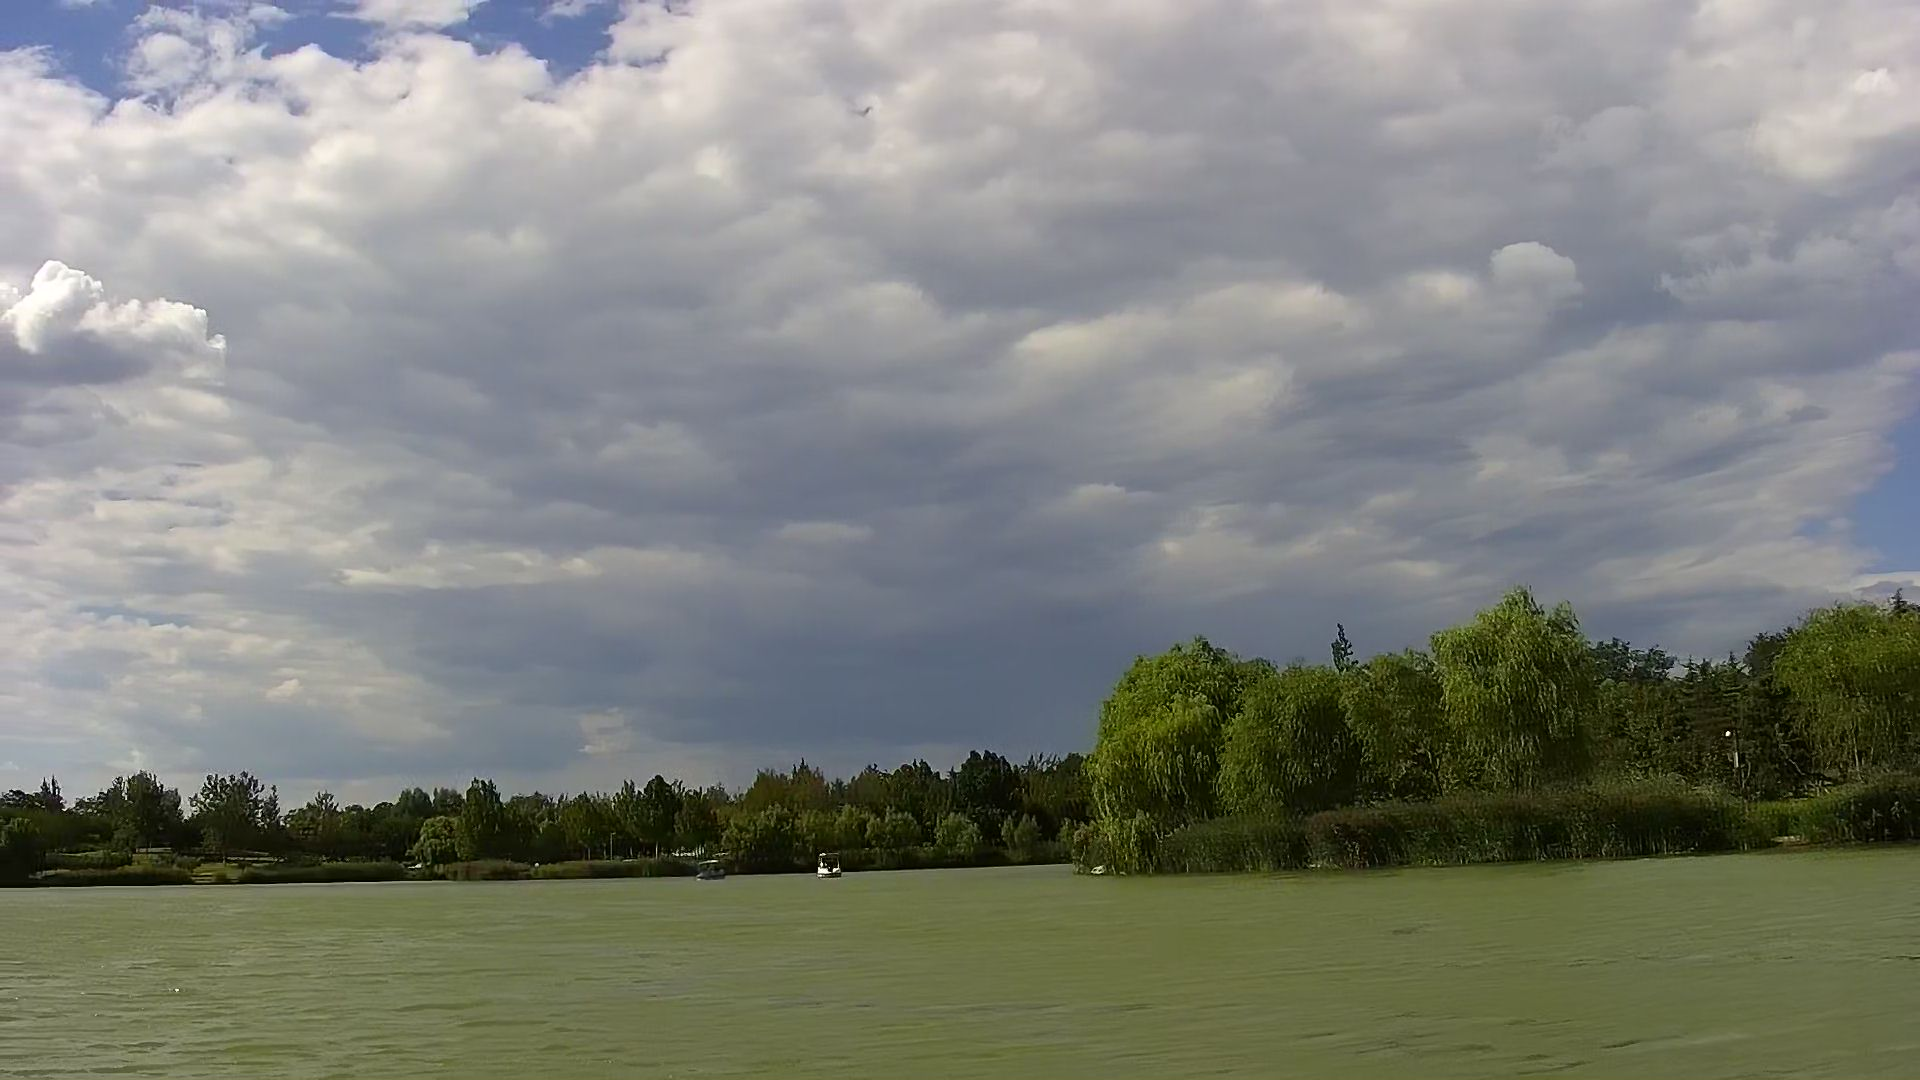boat: (698, 858, 731, 887), (815, 853, 845, 880)
